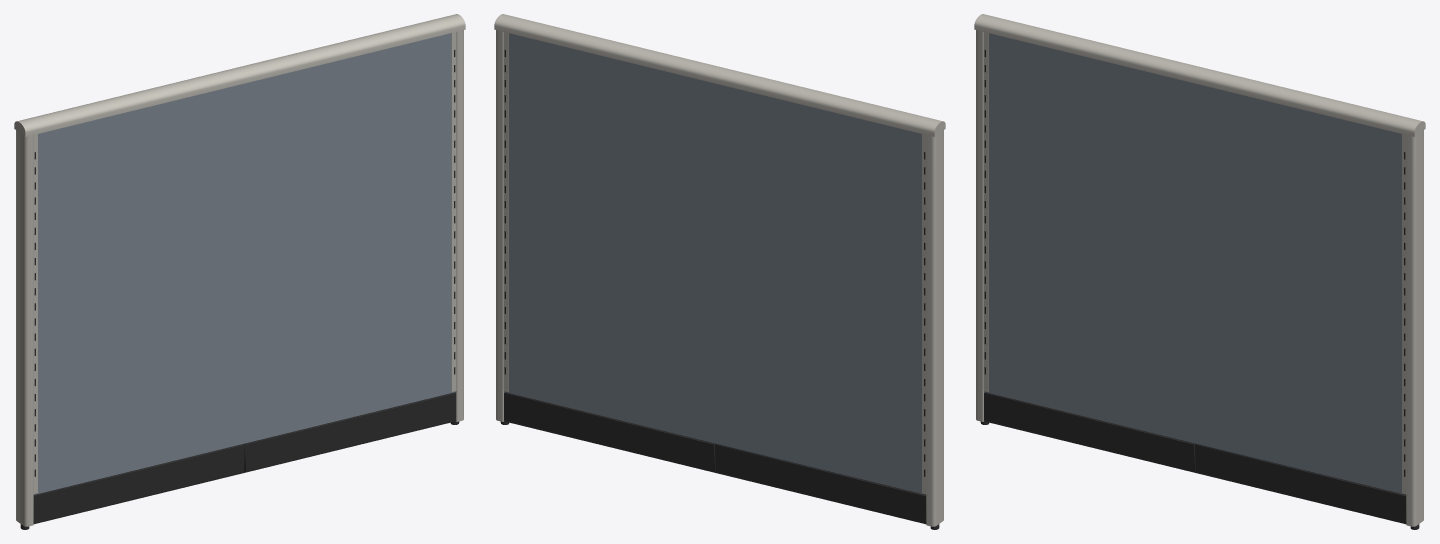
Rendered from Kit_CubiclePanel_1350.fbx.
The picture shows the model from 3 angles, left to right: view 1: azimuth 30°, elevation 25°; view 2: azimuth 150°, elevation 25°; view 3: azimuth 330°, elevation 25°; orthographic projection.
Parts seen in each view (by area): view 1: Kit_CubiclePanel_1350_LOD0; view 2: Kit_CubiclePanel_1350_LOD0; view 3: Kit_CubiclePanel_1350_LOD0.
Boxes of the visible parts, box(x1,y1,x2,y2) form: Kit_CubiclePanel_1350_LOD0: box(14, 14, 465, 529); Kit_CubiclePanel_1350_LOD0: box(494, 14, 945, 529); Kit_CubiclePanel_1350_LOD0: box(974, 14, 1425, 529).
Size of what is drawn, in the model's own units: 1.52 by 1.35 by 0.067.
